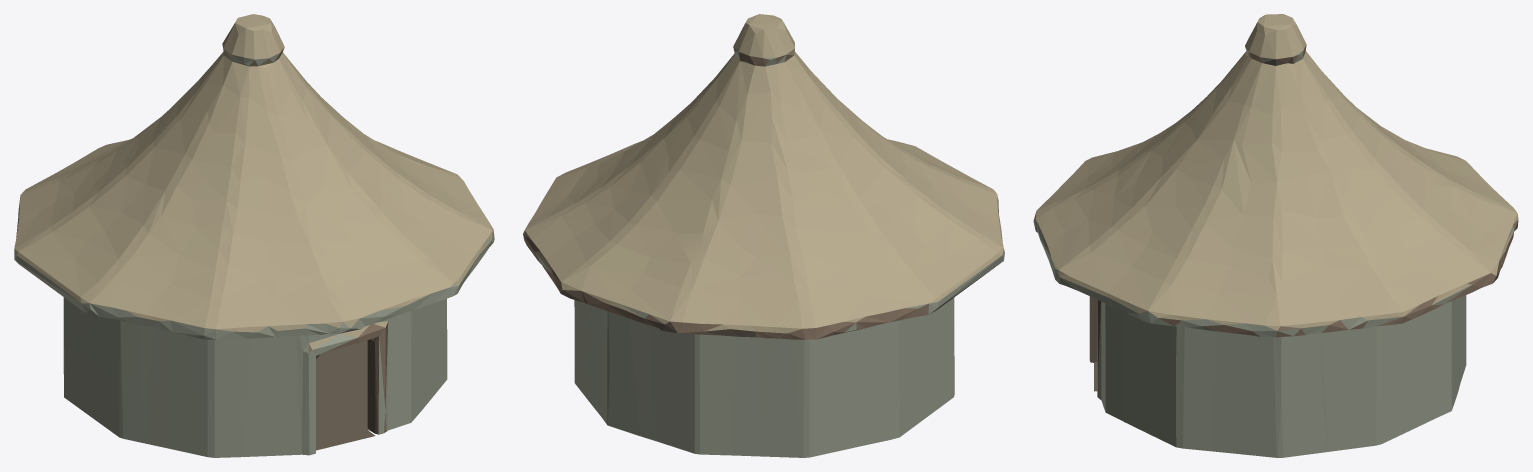
3 renders of one model, left to right at view 1: azimuth 30°, elevation 25°; view 2: azimuth 150°, elevation 25°; view 3: azimuth 270°, elevation 25°, orthographic.
Visible parts, largest first — view 1: geometry_0; view 2: geometry_0; view 3: geometry_0.
Part boxes in pixels (bbox=[...]): geometry_0: bbox=[14, 14, 494, 457]; geometry_0: bbox=[523, 14, 1004, 457]; geometry_0: bbox=[1033, 14, 1518, 457].
Bounding box in the file's own units: 0.9858 × 0.8131 × 1.
